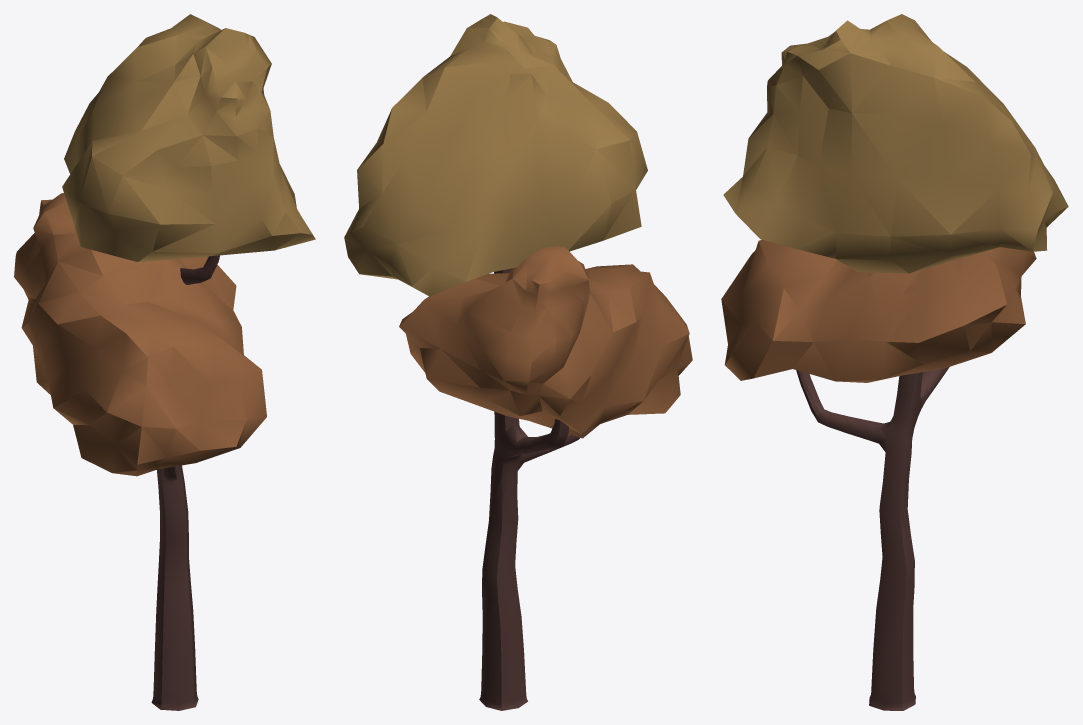
Rendered from tree_maple_2.glb.
3 renders of one model, left to right at view 1: azimuth 30°, elevation 25°; view 2: azimuth 150°, elevation 25°; view 3: azimuth 270°, elevation 25°, orthographic. The views are drawn at different scales.
Parts seen in each view (by area): view 1: tree_maple_2; view 2: tree_maple_2; view 3: tree_maple_2.
Part boxes in pixels (<box>): tree_maple_2: <box>14,14,315,710</box>; tree_maple_2: <box>344,14,692,710</box>; tree_maple_2: <box>721,14,1068,710</box>.
Size of the model in its own units: 3.32 by 9 by 4.07.
